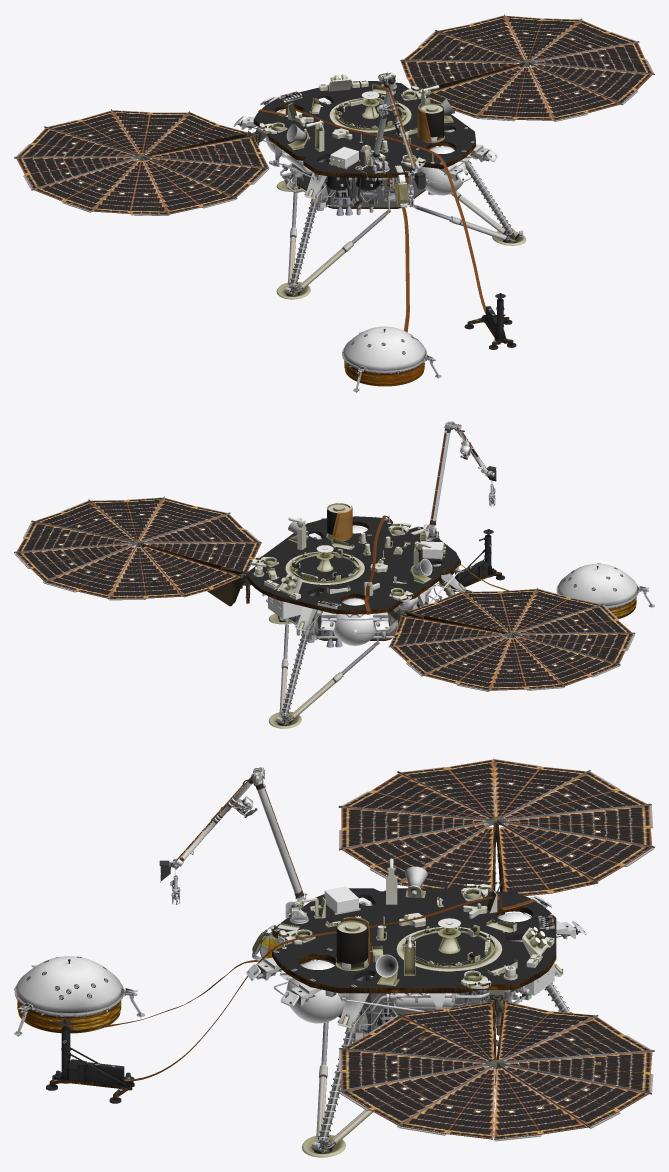
File: insight.glb
3 views of the same model, one above another, from view 1: azimuth 30°, elevation 25°; view 2: azimuth 150°, elevation 25°; view 3: azimuth 270°, elevation 25° (orthographic). The views are drawn at different scales.
Parts seen in each view (by area): view 1: Lander Deployed Simplified coarse.1043, Cube.079, Cube.053, Cube.096, Cube.059, Cube.286; view 2: Lander Deployed Simplified coarse.1043, Cube.096, Cube.079, Cube.078, Cube.053, Cube.040, Cube.046, Cube.059, Cube.287; view 3: Lander Deployed Simplified coarse.1043, Cube.059, Cube.053, Cube.096, Cube.079, Cube.046, Cube.078, Cube.054.
Boxes of the visible parts, x1,y1,x2,y2 form: Lander Deployed Simplified coarse.1043: [14, 14, 654, 392]; Cube.079: [400, 61, 516, 79]; Cube.053: [152, 139, 261, 156]; Cube.096: [451, 69, 519, 117]; Cube.059: [146, 112, 207, 154]; Cube.286: [378, 73, 418, 176]; Lander Deployed Simplified coarse.1043: [14, 424, 654, 728]; Cube.096: [148, 542, 261, 558]; Cube.079: [144, 547, 209, 597]; Cube.078: [149, 548, 240, 586]; Cube.053: [418, 603, 504, 631]; Cube.040: [139, 544, 243, 606]; Cube.046: [399, 616, 492, 634]; Cube.059: [389, 634, 494, 645]; Cube.287: [429, 421, 461, 536]; Lander Deployed Simplified coarse.1043: [14, 757, 654, 1157]; Cube.059: [502, 827, 597, 888]; Cube.053: [448, 827, 493, 889]; Cube.096: [401, 1008, 485, 1056]; Cube.079: [502, 1013, 595, 1058]; Cube.046: [501, 833, 551, 895]; Cube.078: [499, 1001, 532, 1059]; Cube.054: [399, 827, 490, 885].
Bounding box in the file's own units: 6.14 × 2.19 × 4.35.
Materials: 13 (11 with a texture image).
